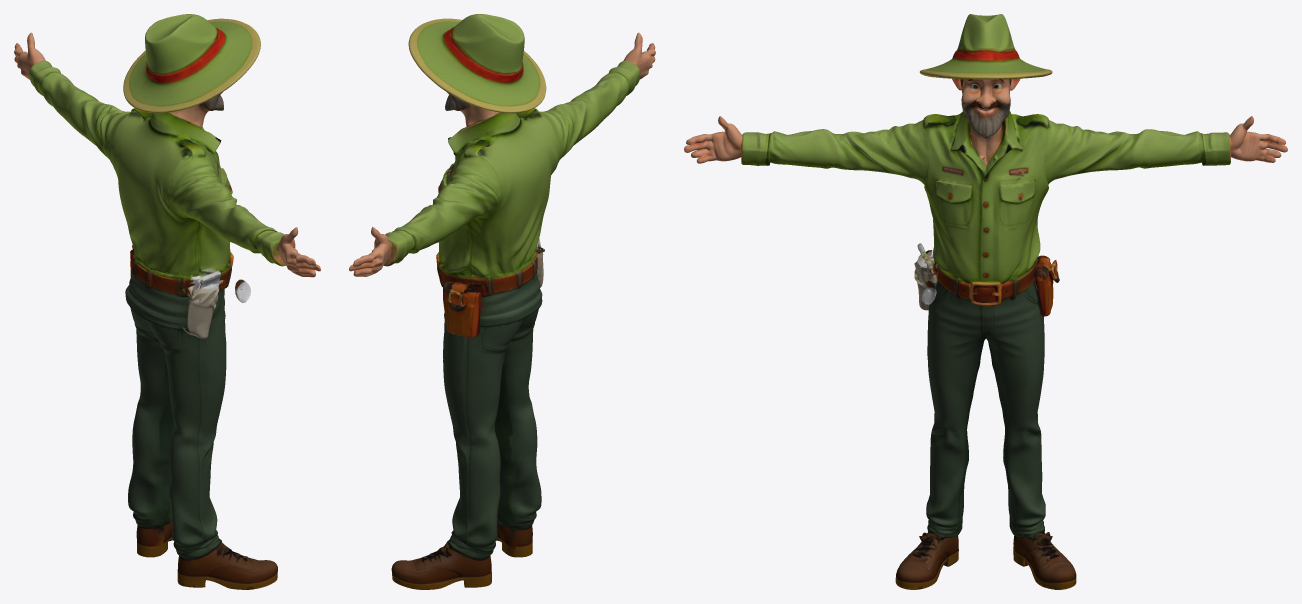
File: 33d25a8d-acbf-4864-a4f7-9cfbc62a7fee.glb
3 views of the same model, side by side, from view 1: azimuth 30°, elevation 25°; view 2: azimuth 150°, elevation 25°; view 3: azimuth 270°, elevation 25° (orthographic).
Visible parts, largest first — view 1: neural_node_cd2db90b-4999-4581-b499-069fd0ccdd35; view 2: neural_node_cd2db90b-4999-4581-b499-069fd0ccdd35; view 3: neural_node_cd2db90b-4999-4581-b499-069fd0ccdd35.
Boxes of the visible parts, left/top/right/bottom form: neural_node_cd2db90b-4999-4581-b499-069fd0ccdd35: left=14, top=14, right=320, bottom=589; neural_node_cd2db90b-4999-4581-b499-069fd0ccdd35: left=349, top=14, right=655, bottom=589; neural_node_cd2db90b-4999-4581-b499-069fd0ccdd35: left=684, top=14, right=1287, bottom=589.
Size of the model in its own units: 0.2294 by 1 by 0.9992.
1 material, 1 textured.
